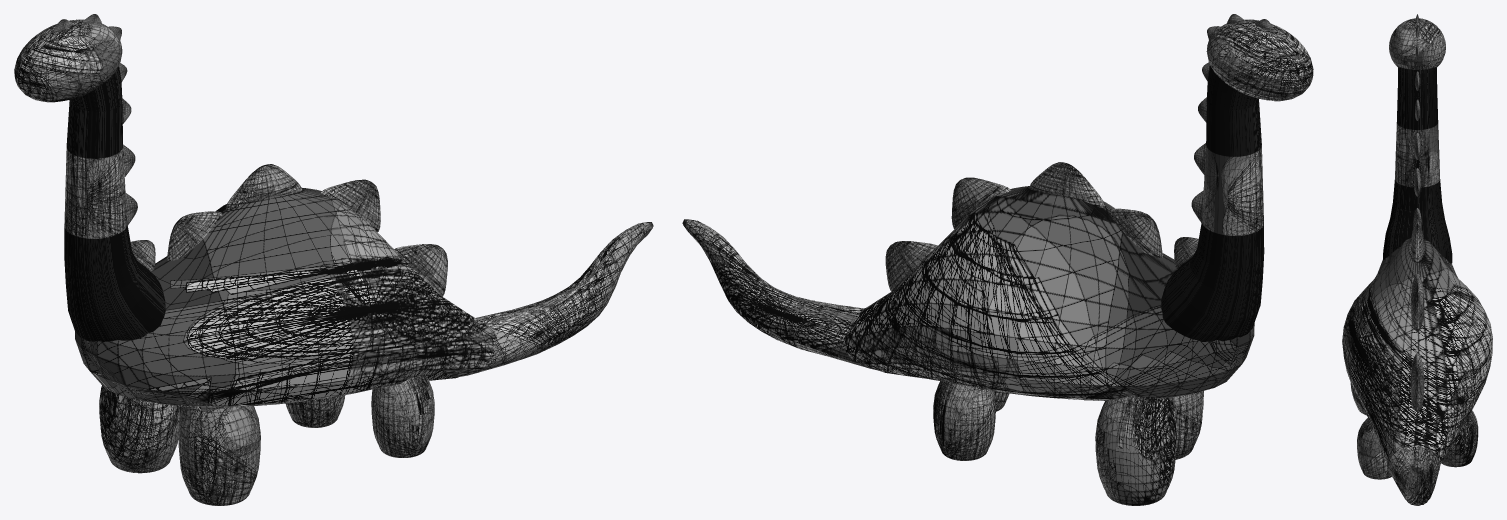
Rendered from dinosaur.fbx.
3 renders of one model, left to right at view 1: azimuth 30°, elevation 25°; view 2: azimuth 150°, elevation 25°; view 3: azimuth 270°, elevation 25°, orthographic. The views are drawn at different scales.
Parts seen in each view (by area): view 1: Sphere; view 2: Sphere; view 3: Sphere.
Part boxes in pixels (x1=…): Sphere: x1=14, y1=14, x2=653, y2=505; Sphere: x1=682, y1=14, x2=1313, y2=505; Sphere: x1=1342, y1=14, x2=1492, y2=505.
Size of the model in its own units: 352 by 259 by 101.
